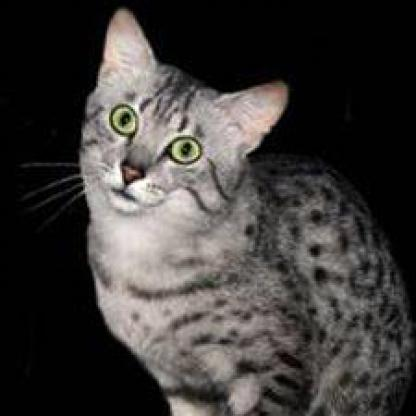cat: (80, 9, 410, 414)
